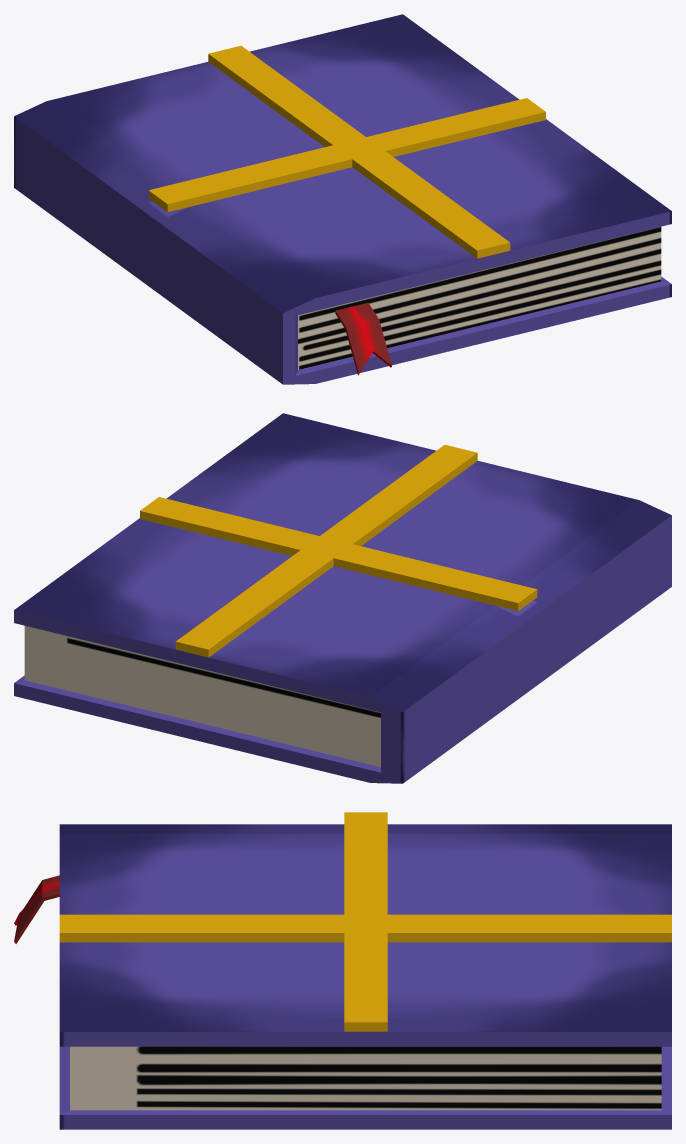
The model's file is Book 4.glb.
3 views of the same model, one above another, from view 1: azimuth 30°, elevation 25°; view 2: azimuth 150°, elevation 25°; view 3: azimuth 270°, elevation 25° (orthographic). The views are drawn at different scales.
Visible parts, largest first — view 1: Cube.014, Plane.014; view 2: Cube.014; view 3: Cube.014, Plane.014.
Boxes of the visible parts, x1,y1,x2,y2 form: Cube.014: (14,14,671,384); Plane.014: (335,302,391,375); Cube.014: (14,413,671,783); Cube.014: (59,812,671,1129); Plane.014: (14,875,59,943).
Bounding box in the file's own units: 0.2261 × 0.0521 × 0.2911.
Materials: 4 (3 with a texture image).
